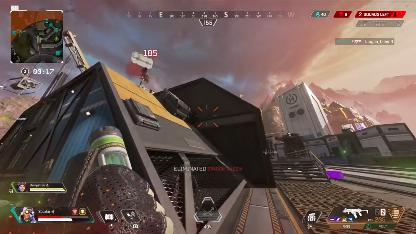Target: (138, 66, 150, 86)
